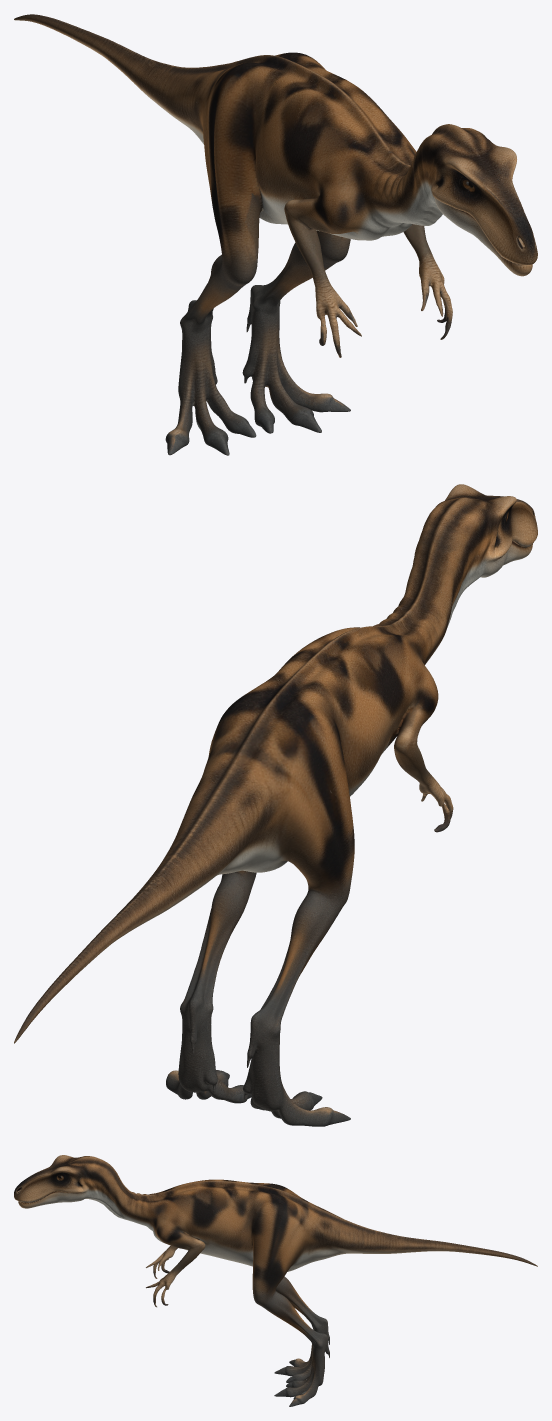
File: Raptor.glb
3 renders of one model, top to bottom at view 1: azimuth 30°, elevation 25°; view 2: azimuth 150°, elevation 25°; view 3: azimuth 270°, elevation 25°, orthographic. The views are drawn at different scales.
Bounding box in the file's own units: 0.3854 × 0.911 × 1.9.
Materials: 1 (1 with a texture image).
